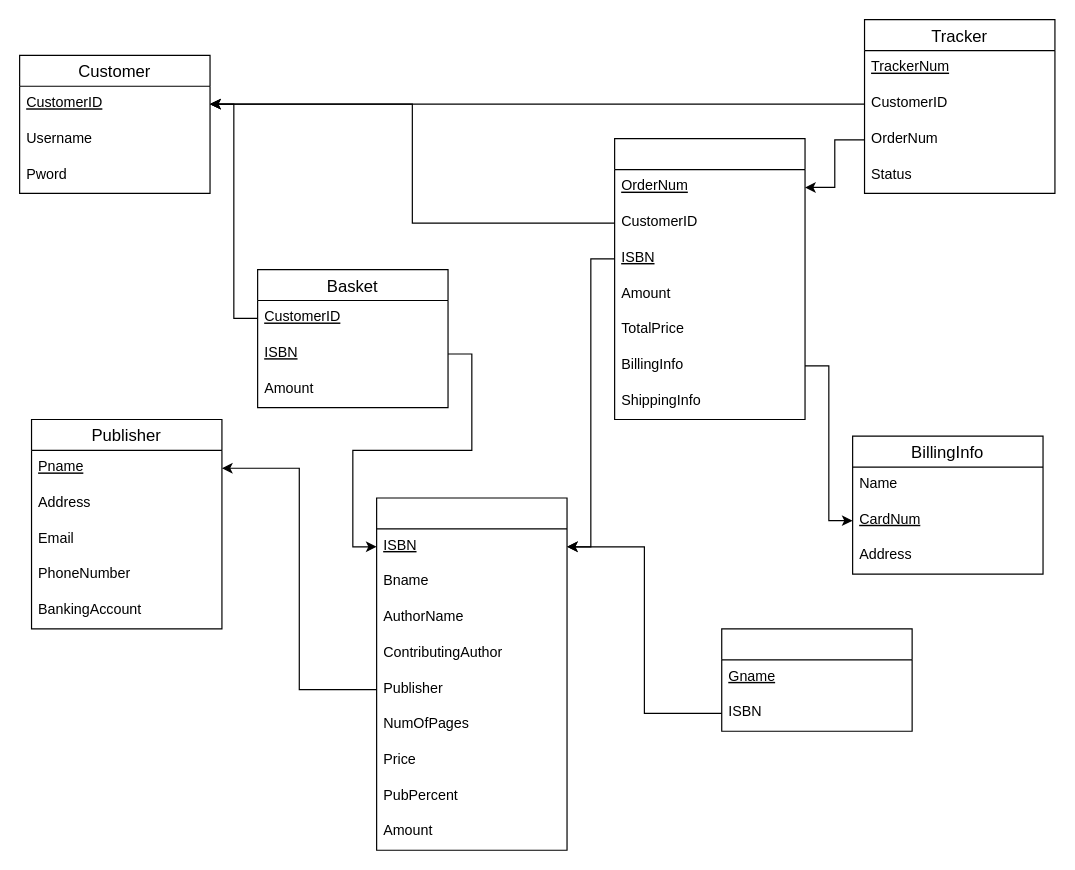
Some shapes in this 1075 by 870 pixel diagram are drawn without their labels. The shapes that lost their labels are listed below. From the top down, each one's box as (x1, y1, x2, y2) in pixels, then its label:
(613, 137, 805, 419): BookOrder
(375, 497, 567, 850): Book
(721, 628, 912, 731): Genre
